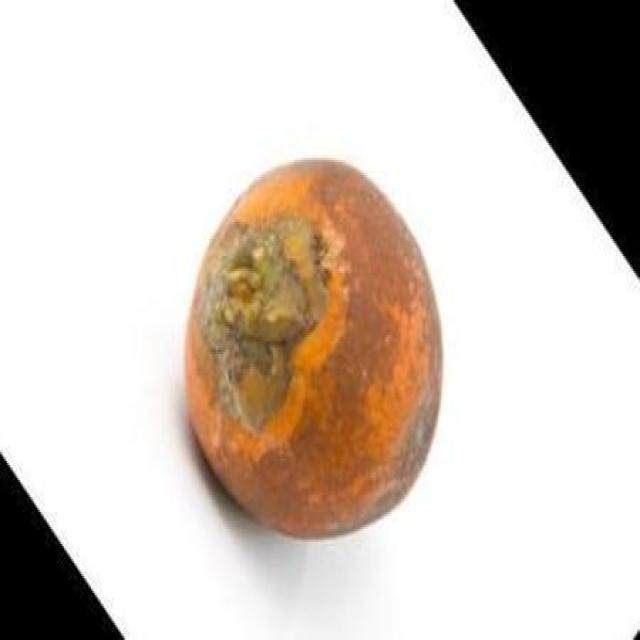good: (183, 160, 444, 542)
